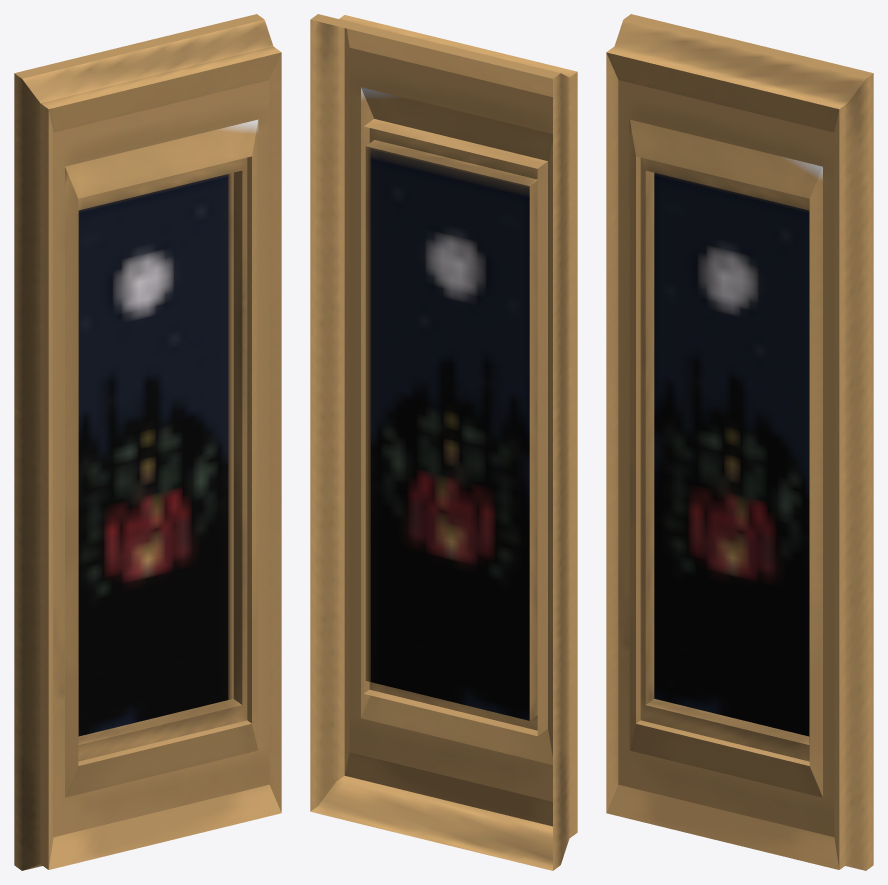
File: frame_4.fbx
3 views of the same model, side by side, from view 1: azimuth 30°, elevation 25°; view 2: azimuth 150°, elevation 25°; view 3: azimuth 330°, elevation 25° (orthographic).
Parts seen in each view (by area): view 1: quadroComprido; view 2: quadroComprido; view 3: quadroComprido.
Boxes of the visible parts, x1,y1,x2,y2 form: quadroComprido: (14,14,281,870); quadroComprido: (310,14,577,870); quadroComprido: (606,14,873,870).
Size of the model in its own units: 425 by 1327 by 89.63.
